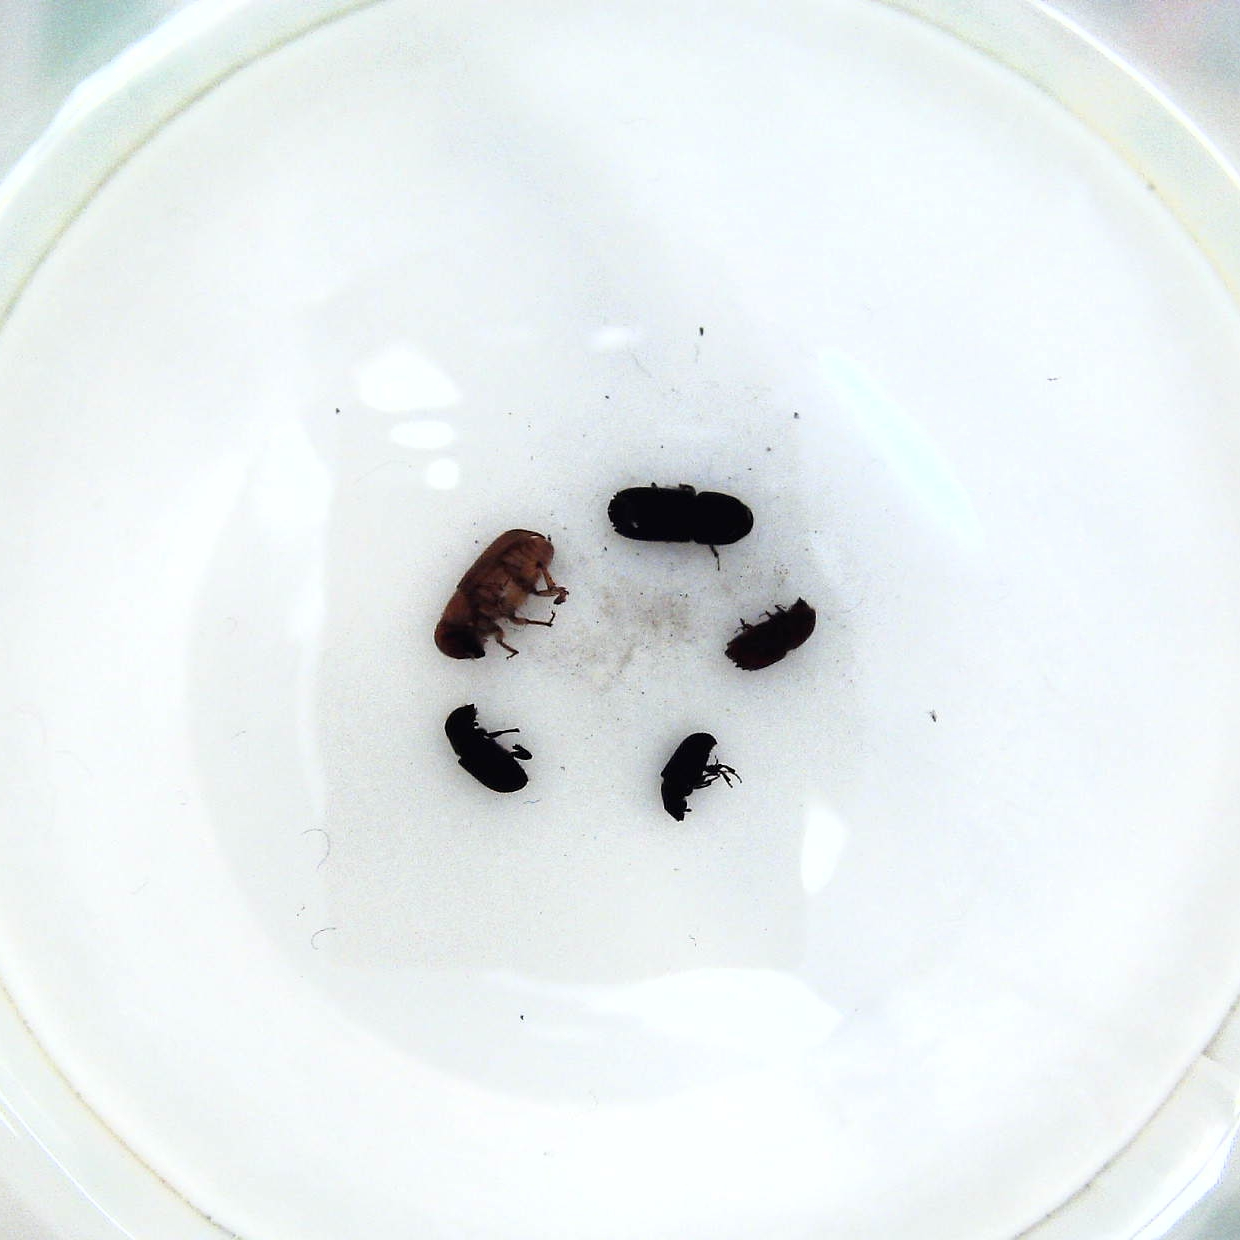Boerner: (605, 480, 759, 565)
Leconte: (427, 523, 573, 663)
armandi: (437, 699, 534, 802)
coleoptera: (654, 731, 751, 822)
linnaeus: (722, 595, 827, 675)
